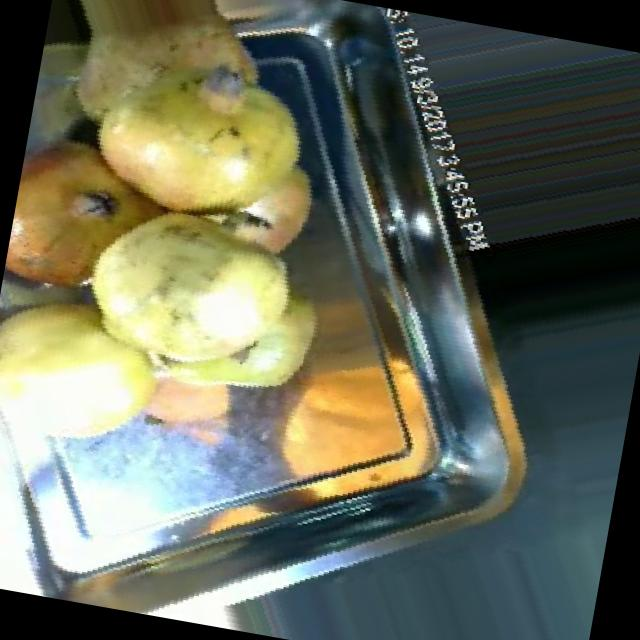fruit: (60, 173, 362, 431), (0, 107, 155, 325)
